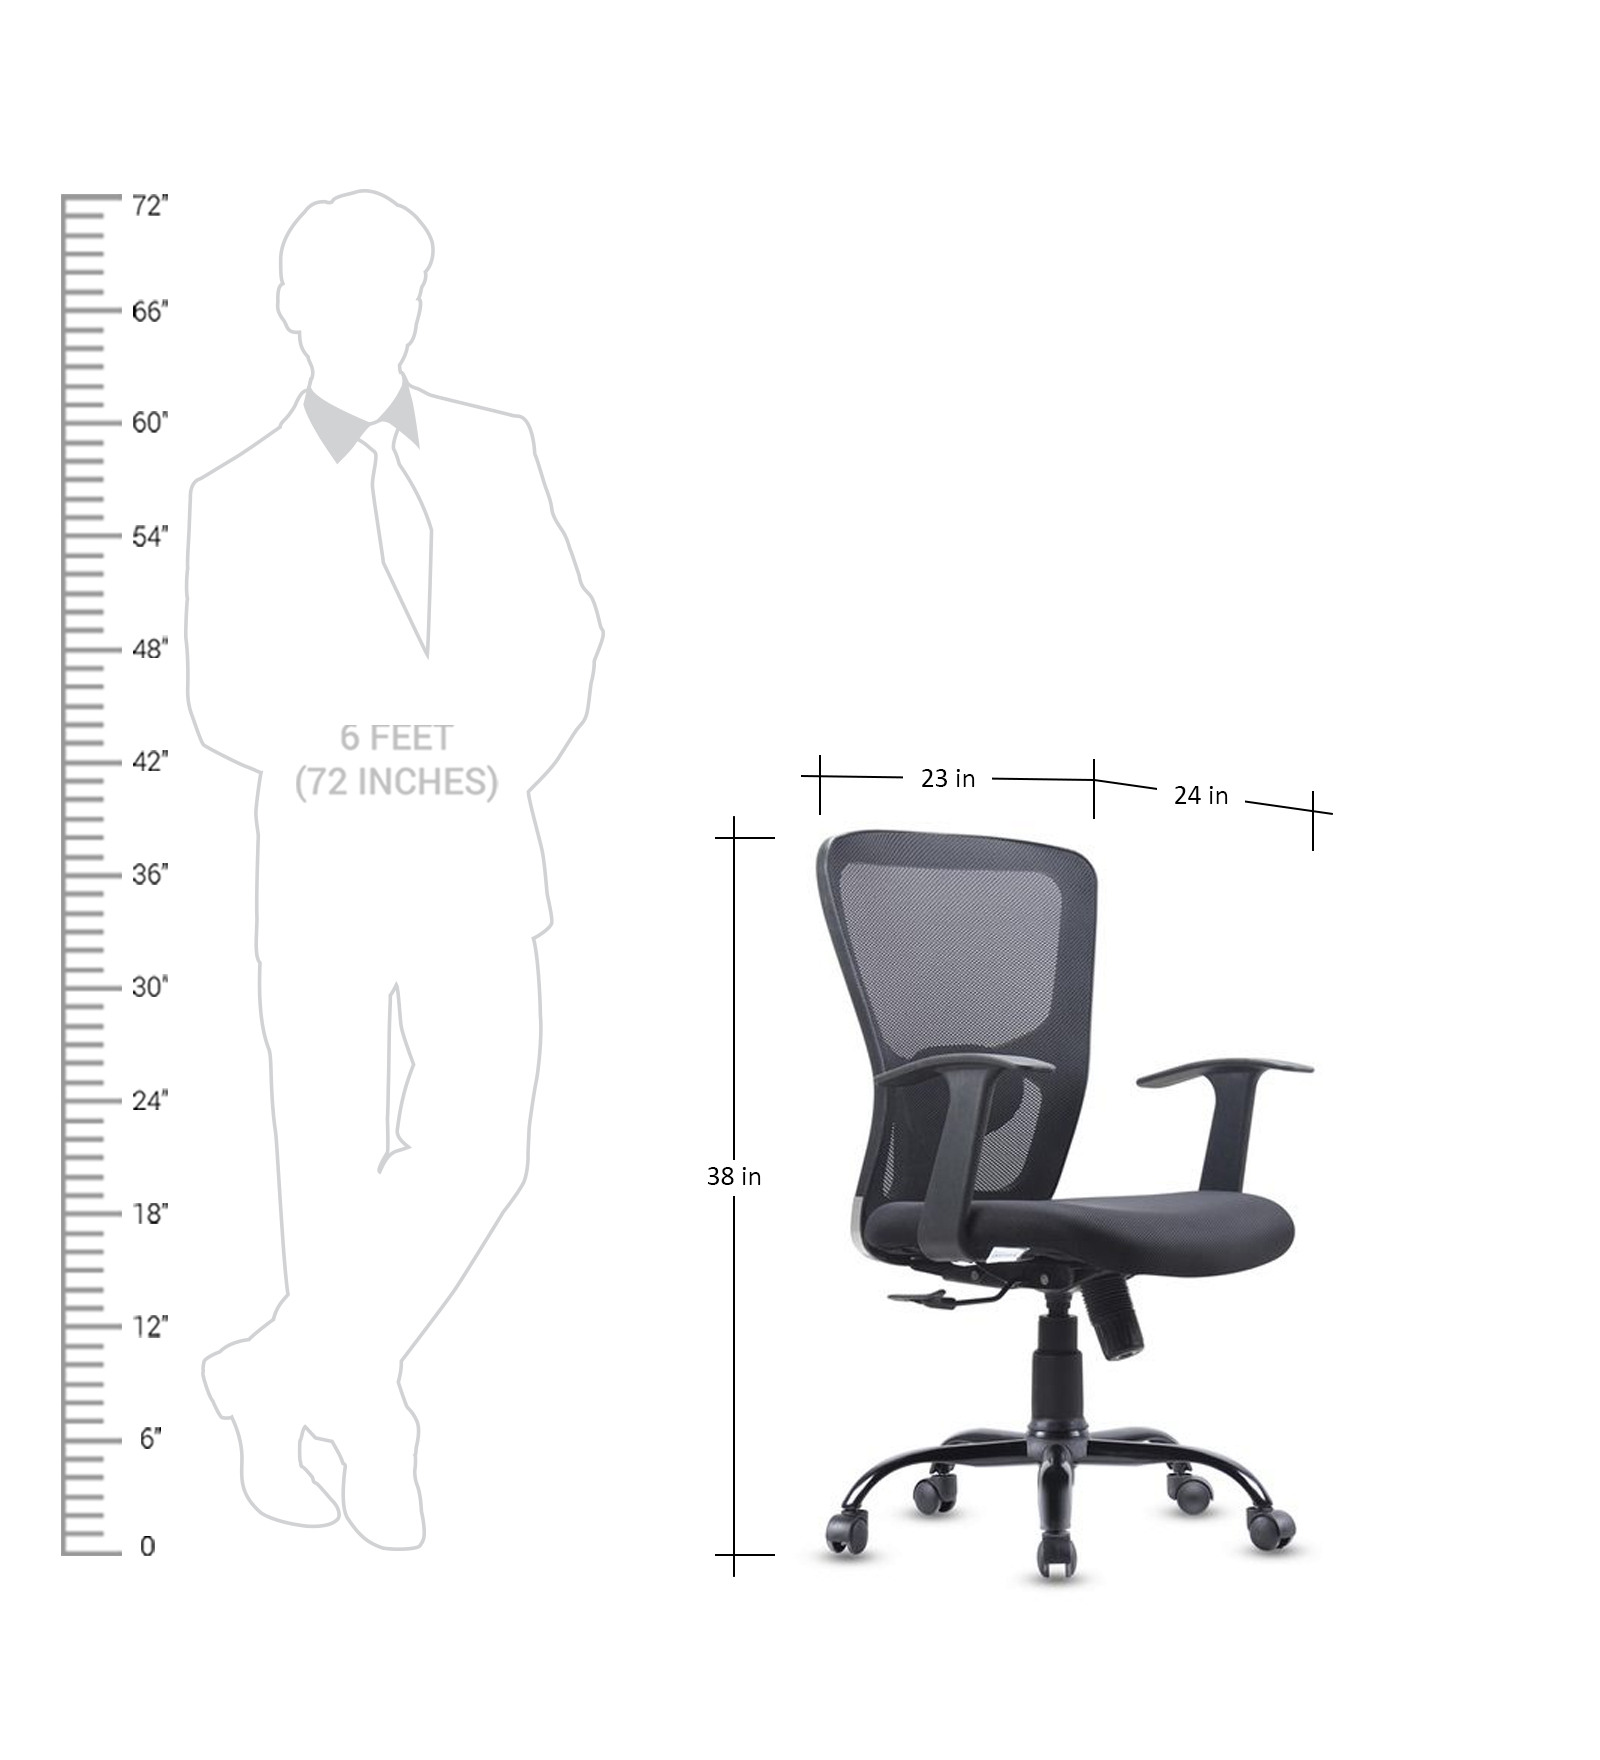Smart Medium back Ergonomic Chairs by VOF: (797, 808, 1353, 1640)
